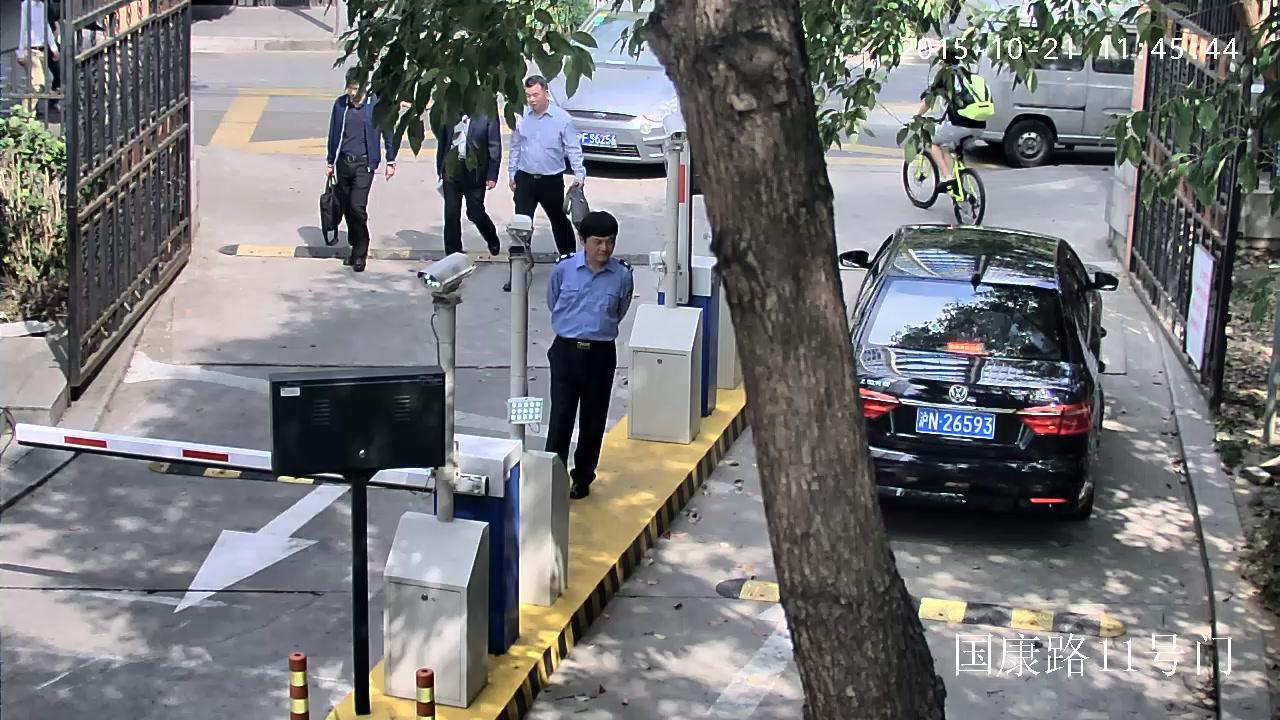face: (587, 234, 614, 260), (525, 84, 544, 108), (346, 82, 364, 100)
